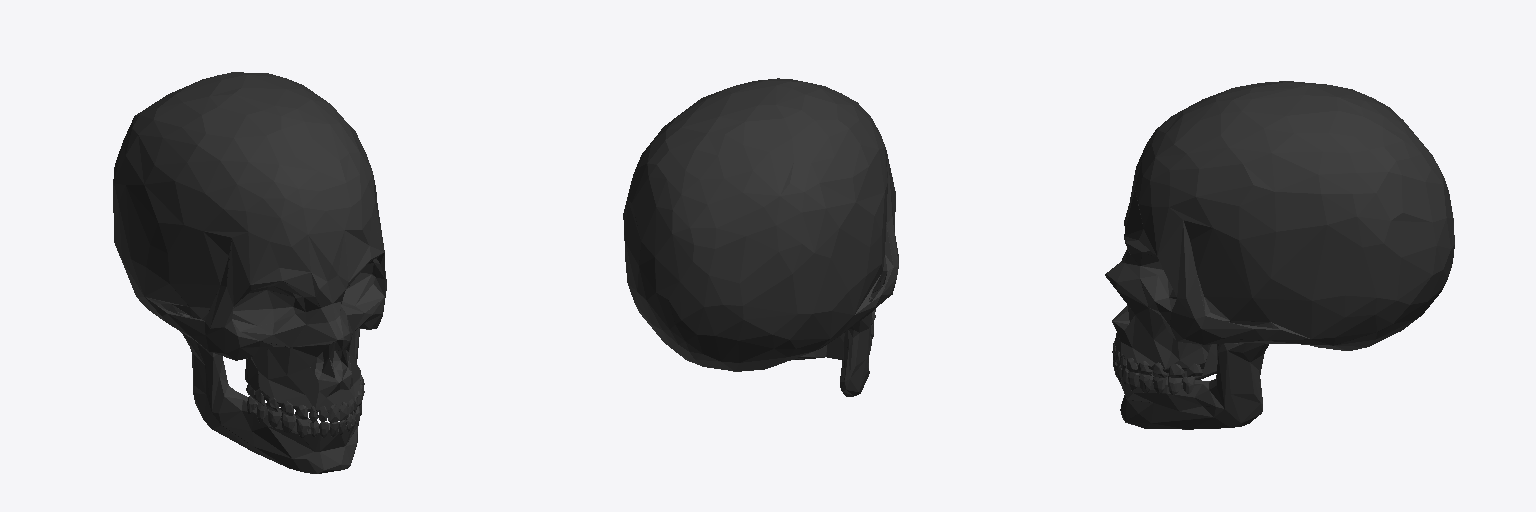
The model's file is skull_low_poly_tri.obj.
The picture shows the model from 3 angles: view 1: azimuth 30°, elevation 25°; view 2: azimuth 150°, elevation 25°; view 3: azimuth 270°, elevation 25°; orthographic projection.
Visible parts, largest first — view 1: Skull, jaw; view 2: Skull, jaw; view 3: Skull, jaw.
Part boxes in pixels (bbox=[...]): Skull: bbox=[113, 72, 386, 422]; jaw: bbox=[176, 312, 361, 473]; Skull: bbox=[623, 78, 898, 371]; jaw: bbox=[790, 300, 873, 396]; Skull: bbox=[1105, 81, 1454, 377]; jaw: bbox=[1113, 327, 1268, 429].
Bounding box in the file's own units: 212 × 312 × 308.